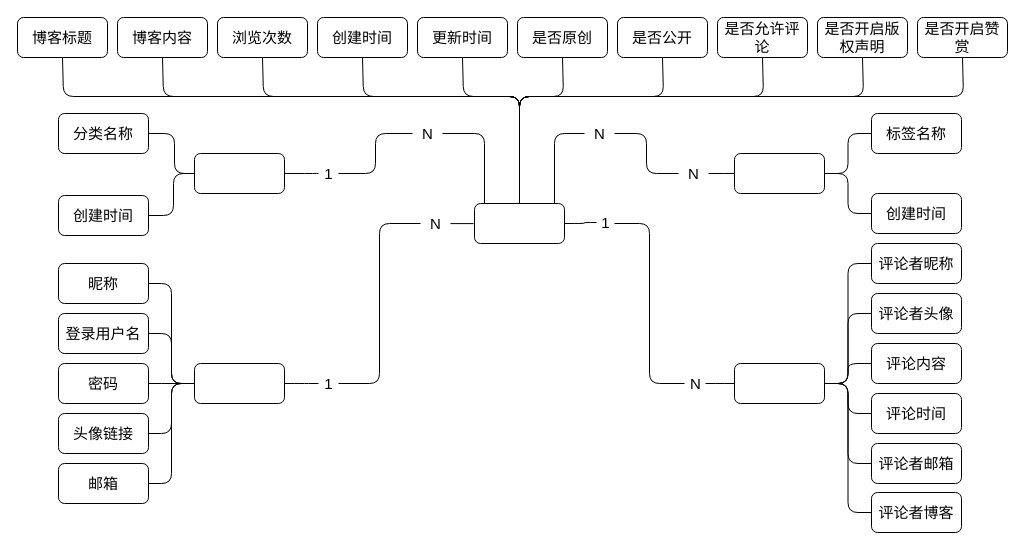
Some shapes in this 1025 by 550 pixel diagram are drawn without their labels. The centre of each missing label's shape, as x and y in pixels:
"分类" belongs at point (239, 173).
"博客文章" belongs at point (519, 223).
"标签" belongs at point (779, 173).
"用户" belongs at point (239, 383).
"评论" belongs at point (779, 383).
